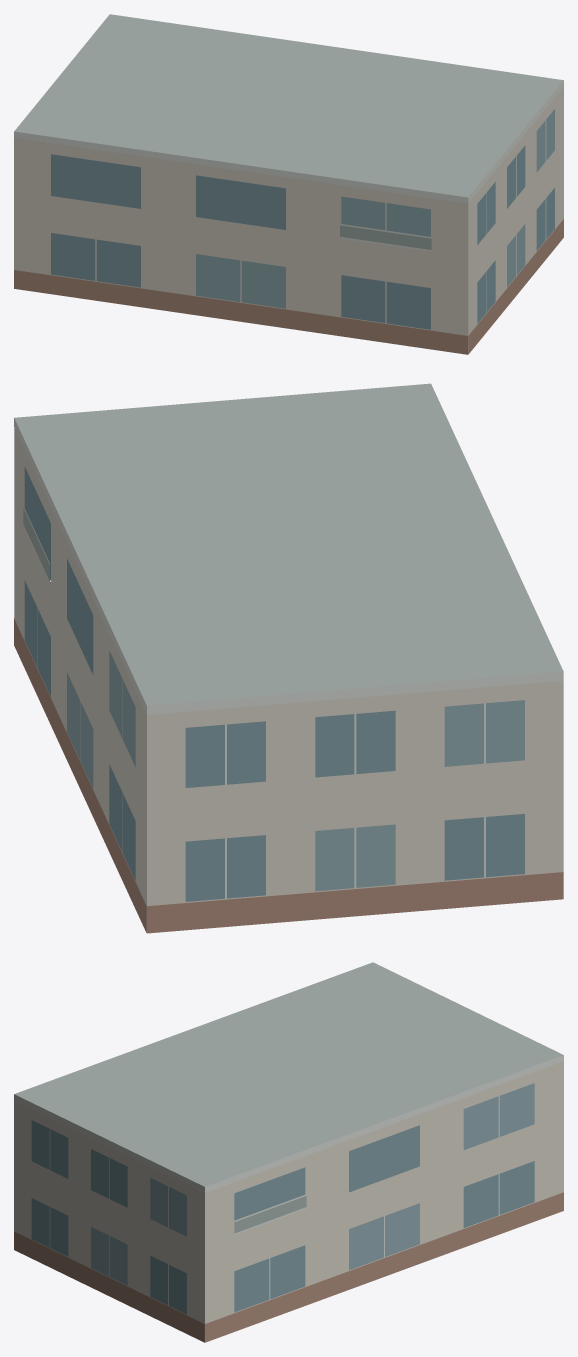
File: residential-3e8416c7-d83d-4c0c-ad4d-baaae280f878.glb
3 views of the same model, one above another, from view 1: azimuth 30°, elevation 25°; view 2: azimuth 150°, elevation 25°; view 3: azimuth 270°, elevation 25° (orthographic). The views are drawn at different scales.
Parts seen in each view (by area): view 1: residential-3e8416c7-d83d-4c0c-ad4d-baaae280f878.tmp; view 2: residential-3e8416c7-d83d-4c0c-ad4d-baaae280f878.tmp; view 3: residential-3e8416c7-d83d-4c0c-ad4d-baaae280f878.tmp.
Part boxes in pixels (box(x1,y1,x2,y2)): residential-3e8416c7-d83d-4c0c-ad4d-baaae280f878.tmp: box(14, 14, 563, 354); residential-3e8416c7-d83d-4c0c-ad4d-baaae280f878.tmp: box(14, 383, 563, 933); residential-3e8416c7-d83d-4c0c-ad4d-baaae280f878.tmp: box(14, 962, 563, 1342).
Bounding box in the file's own units: 18.87 × 6.1 × 19.51.
